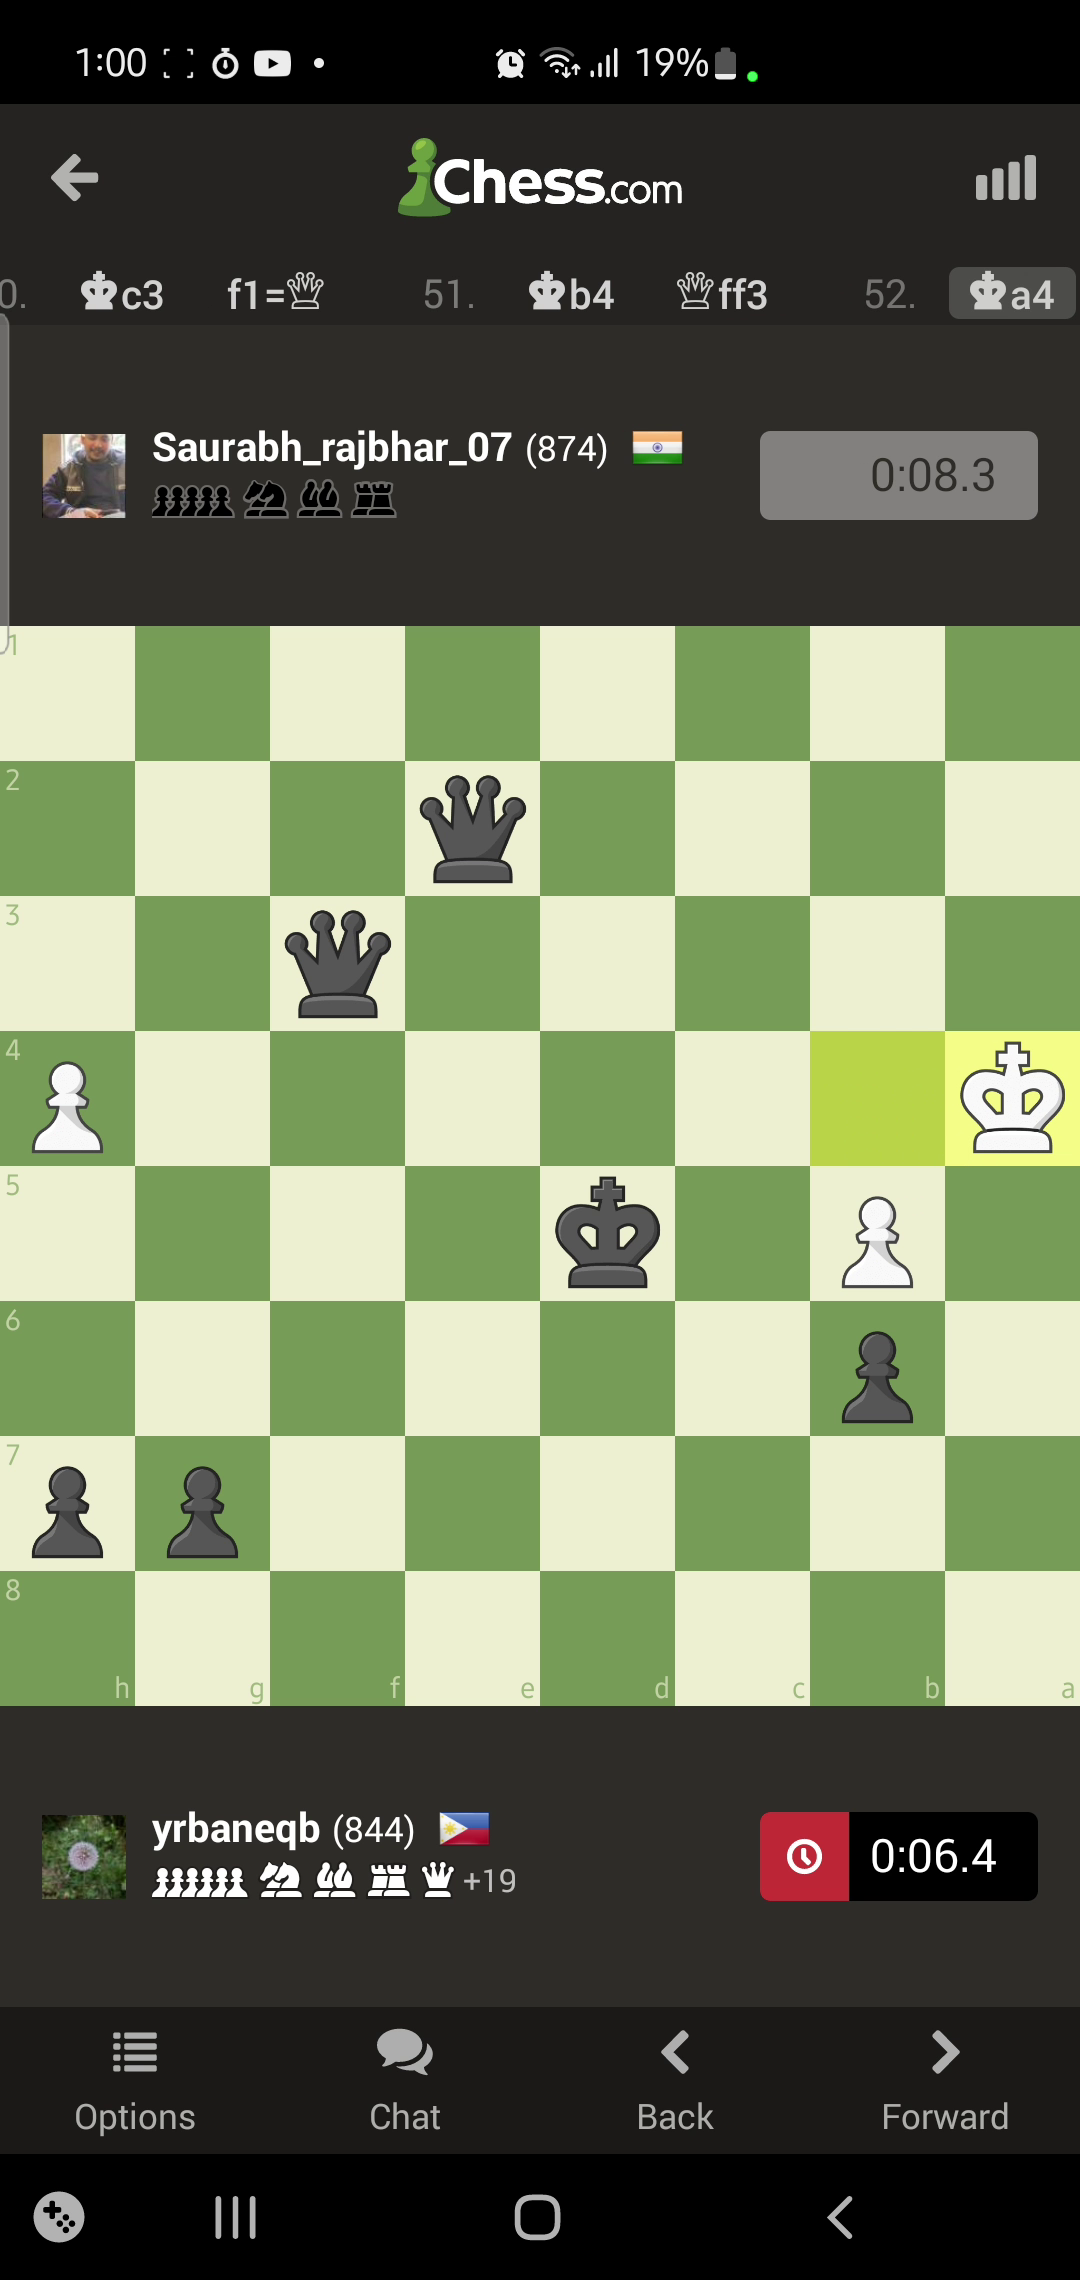king: (956, 1043, 1065, 1150), (555, 1173, 657, 1285)
